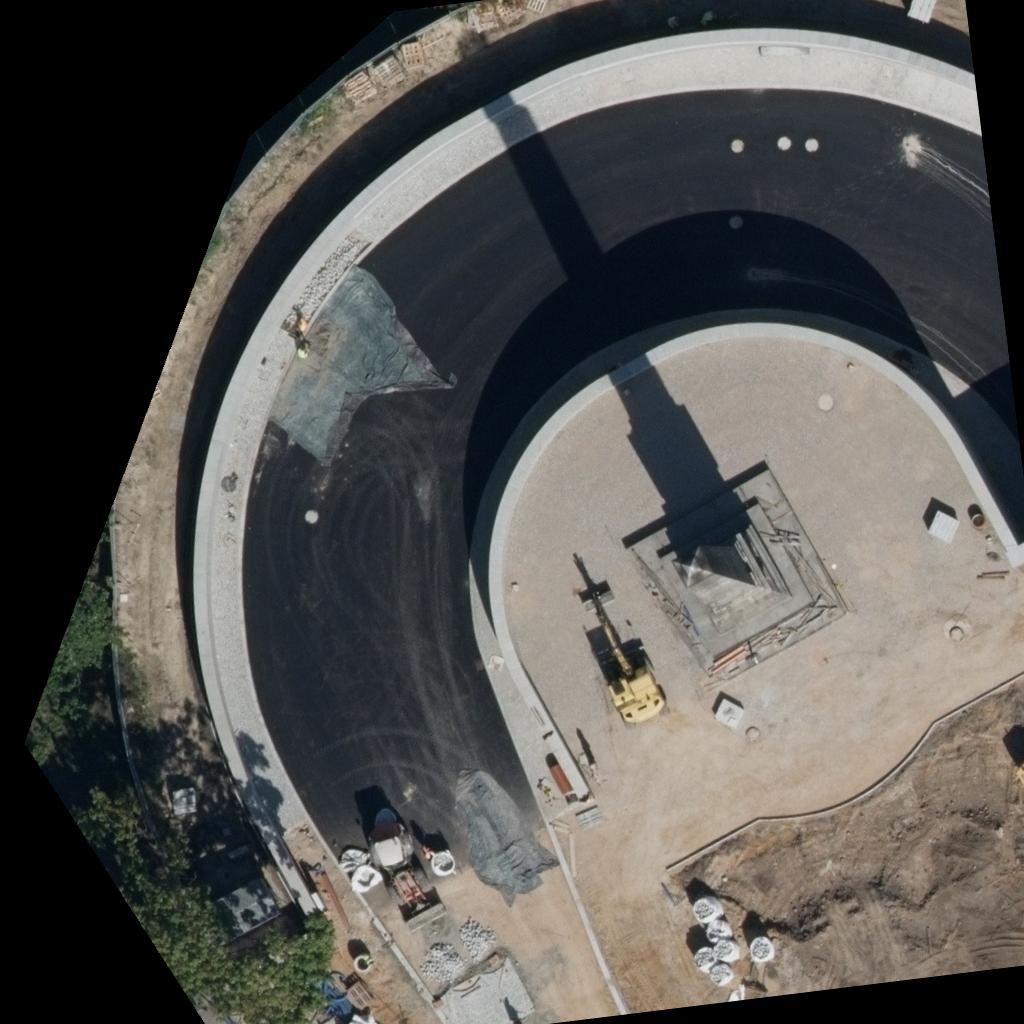koparka: (572, 544, 666, 728), (363, 802, 446, 933)
pracownik: (296, 340, 308, 357)
